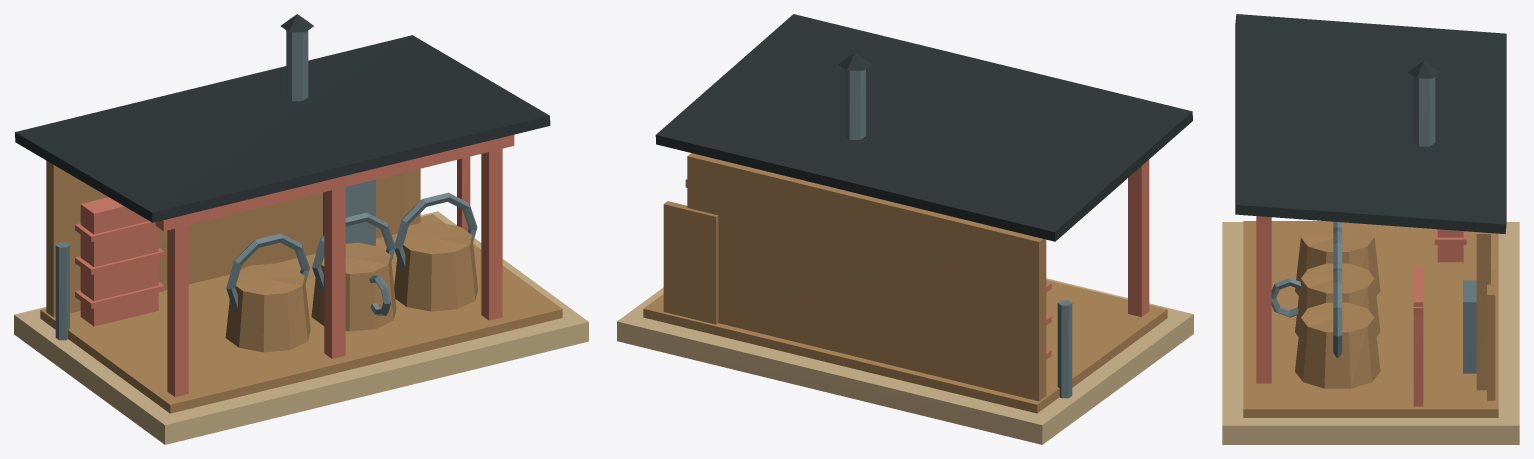
File: Tannery.glb
3 views of the same model, side by side, from view 1: azimuth 30°, elevation 25°; view 2: azimuth 150°, elevation 25°; view 3: azimuth 270°, elevation 25° (orthographic). The views are drawn at different scales.
Visible parts, largest first — view 1: wind-pump-static-tannery-charcoal-roof, wind-pump-static-tannery-sage-work-wall, wind-pump-static-tannery-weathered-timber, wind-pump-static-tannery-dry-stone-curb, wind-pump-static-tannery-empty-vat-staves, wind-pump-static-tannery-dark-service-iron; view 2: wind-pump-static-tannery-sage-work-wall, wind-pump-static-tannery-charcoal-roof, wind-pump-static-tannery-dry-stone-curb, wind-pump-static-tannery-weathered-timber, wind-pump-static-tannery-dark-service-iron; view 3: wind-pump-static-tannery-charcoal-roof, wind-pump-static-tannery-sage-work-wall, wind-pump-static-tannery-dry-stone-curb, wind-pump-static-tannery-empty-vat-staves, wind-pump-static-tannery-weathered-timber, wind-pump-static-tannery-dark-service-iron.
Boxes of the visible parts, bbox=[...] form: wind-pump-static-tannery-charcoal-roof: bbox=[15, 14, 550, 222]; wind-pump-static-tannery-sage-work-wall: bbox=[40, 160, 562, 413]; wind-pump-static-tannery-weathered-timber: bbox=[75, 135, 514, 397]; wind-pump-static-tannery-dry-stone-curb: bbox=[14, 211, 588, 444]; wind-pump-static-tannery-empty-vat-staves: bbox=[225, 222, 477, 352]; wind-pump-static-tannery-dark-service-iron: bbox=[55, 30, 477, 340]; wind-pump-static-tannery-sage-work-wall: bbox=[643, 153, 1167, 413]; wind-pump-static-tannery-charcoal-roof: bbox=[655, 14, 1192, 241]; wind-pump-static-tannery-dry-stone-curb: bbox=[617, 278, 1193, 444]; wind-pump-static-tannery-weathered-timber: bbox=[685, 159, 1149, 359]; wind-pump-static-tannery-dark-service-iron: bbox=[844, 69, 1072, 398]; wind-pump-static-tannery-charcoal-roof: bbox=[1235, 14, 1506, 234]; wind-pump-static-tannery-sage-work-wall: bbox=[1243, 221, 1498, 417]; wind-pump-static-tannery-dry-stone-curb: bbox=[1222, 222, 1519, 444]; wind-pump-static-tannery-empty-vat-staves: bbox=[1295, 222, 1380, 388]; wind-pump-static-tannery-weathered-timber: bbox=[1256, 216, 1466, 406]; wind-pump-static-tannery-dark-service-iron: bbox=[1271, 77, 1476, 373].
Size of the model in its own units: 4.11 by 2.72 by 2.5.
